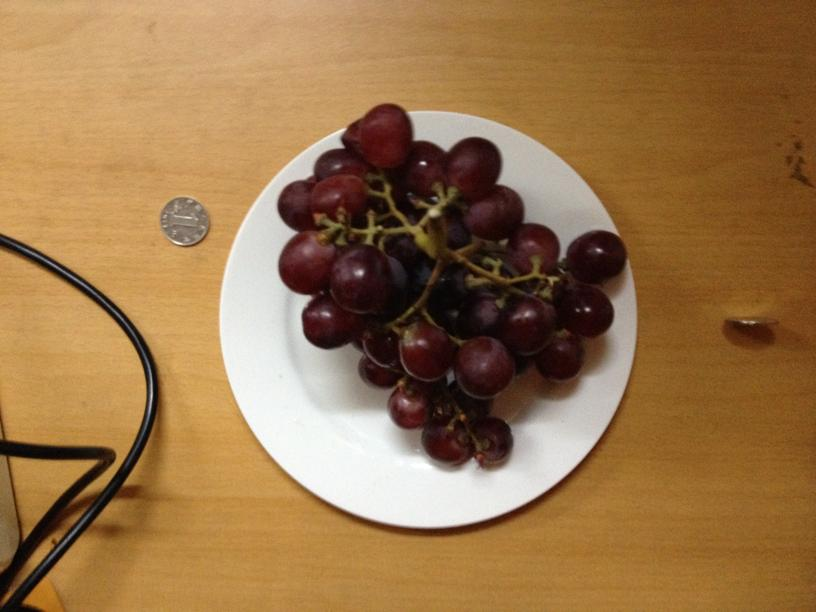coin: (161, 196, 208, 246)
grape: (279, 102, 628, 468)
